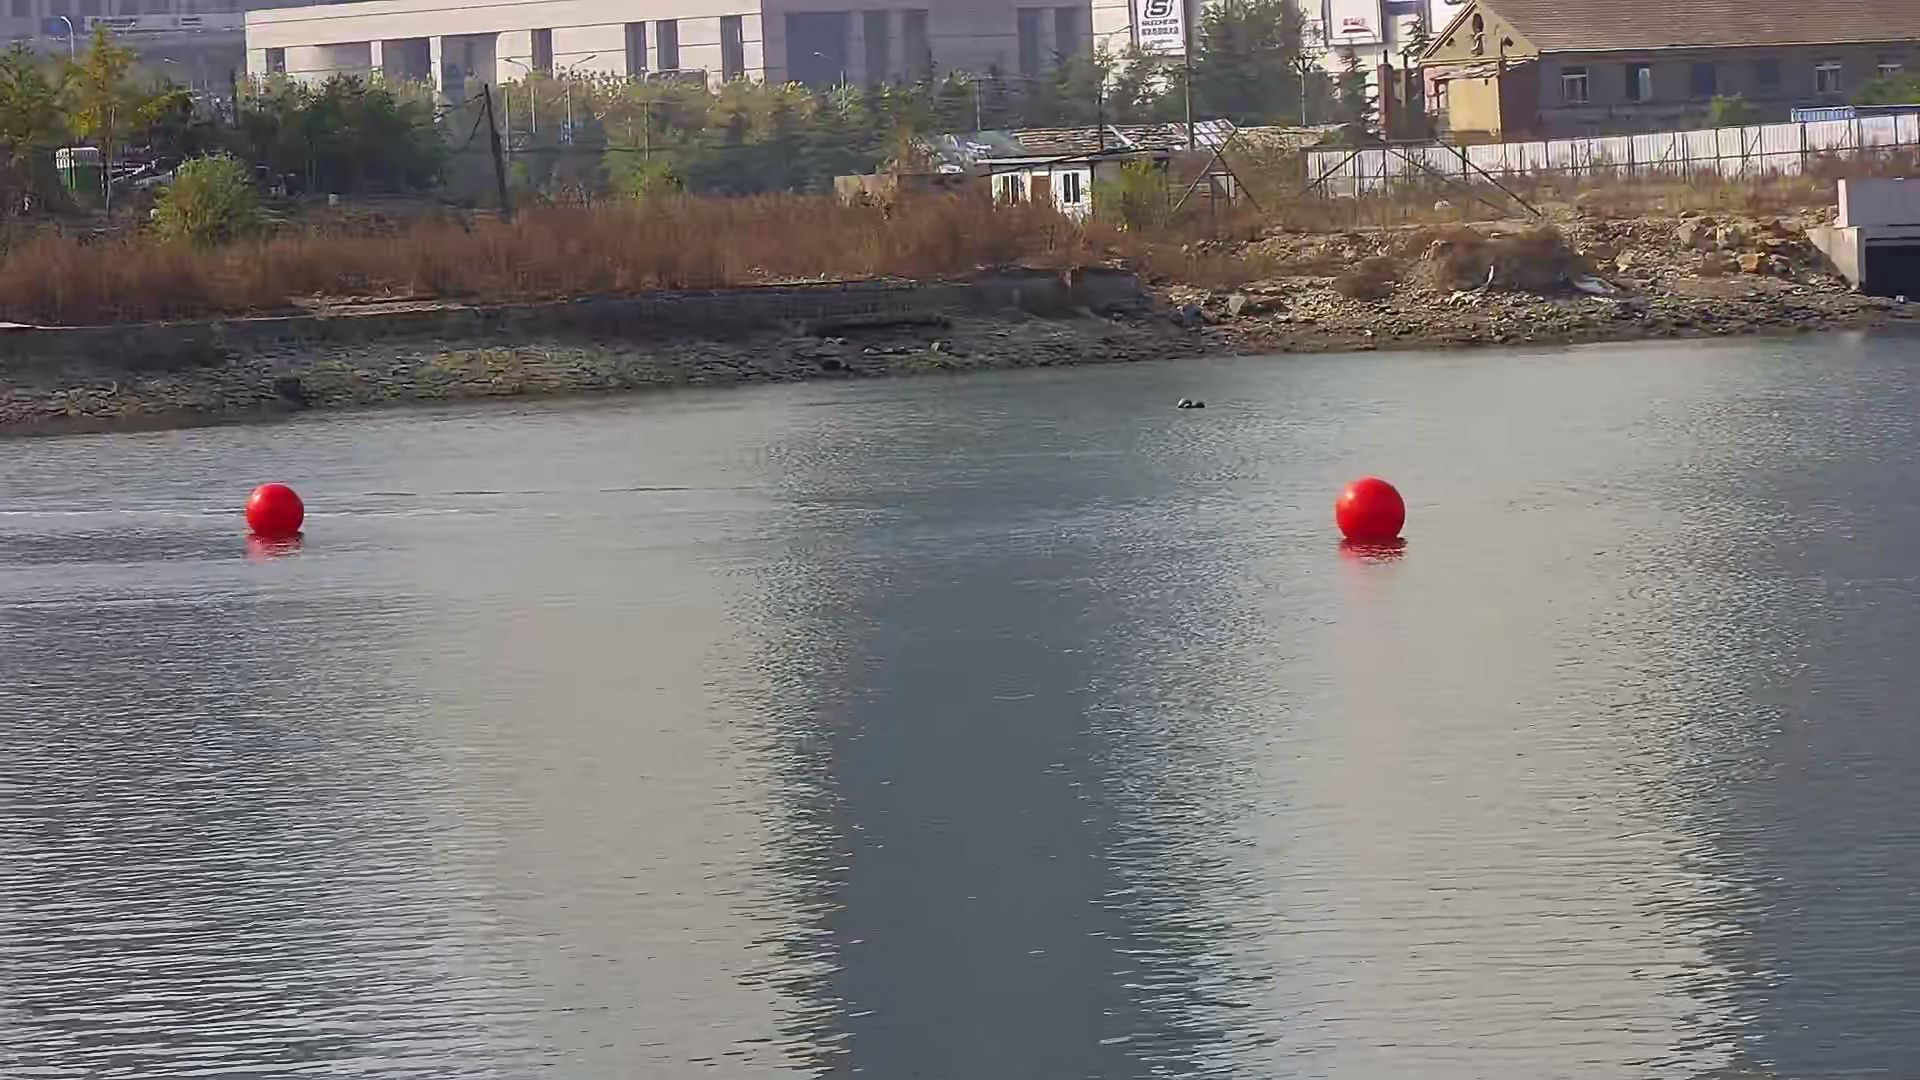ball: (1335, 477, 1407, 542), (243, 480, 311, 545)
rubbish: (1178, 397, 1211, 410)
